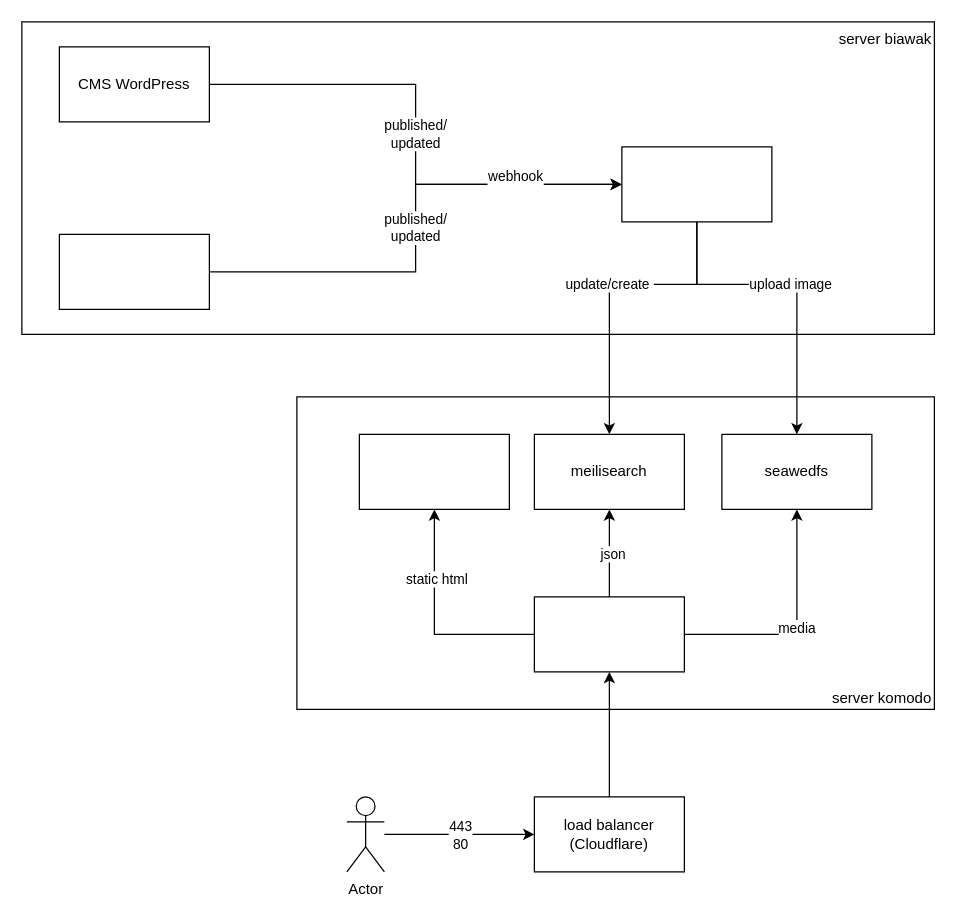
Image size: 956x920. Some labels were removed from this diagram. Each missing label, with the centre of its shape:
"CMS Startup" belongs at point (133, 271).
"FE Startupindonesia" belongs at point (433, 471).
"n8n" belongs at point (696, 184).
"reverse proxy:80" belongs at point (608, 634).
